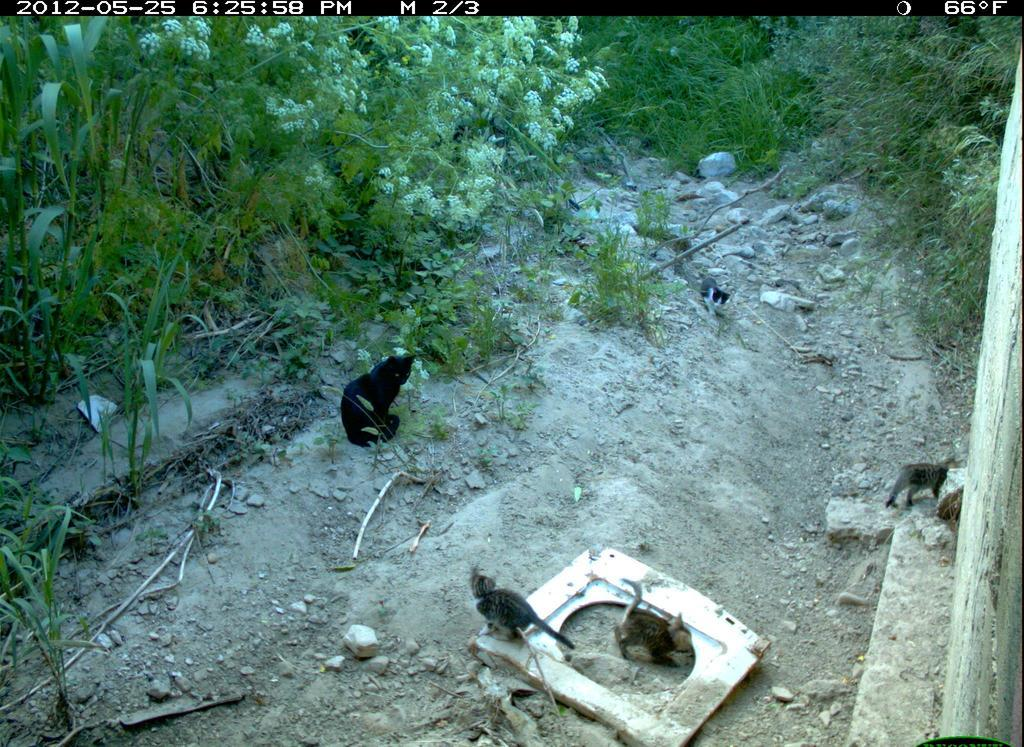cat: (463, 565, 584, 655), (332, 344, 430, 455), (611, 575, 700, 675), (888, 454, 963, 514), (698, 272, 734, 319)
